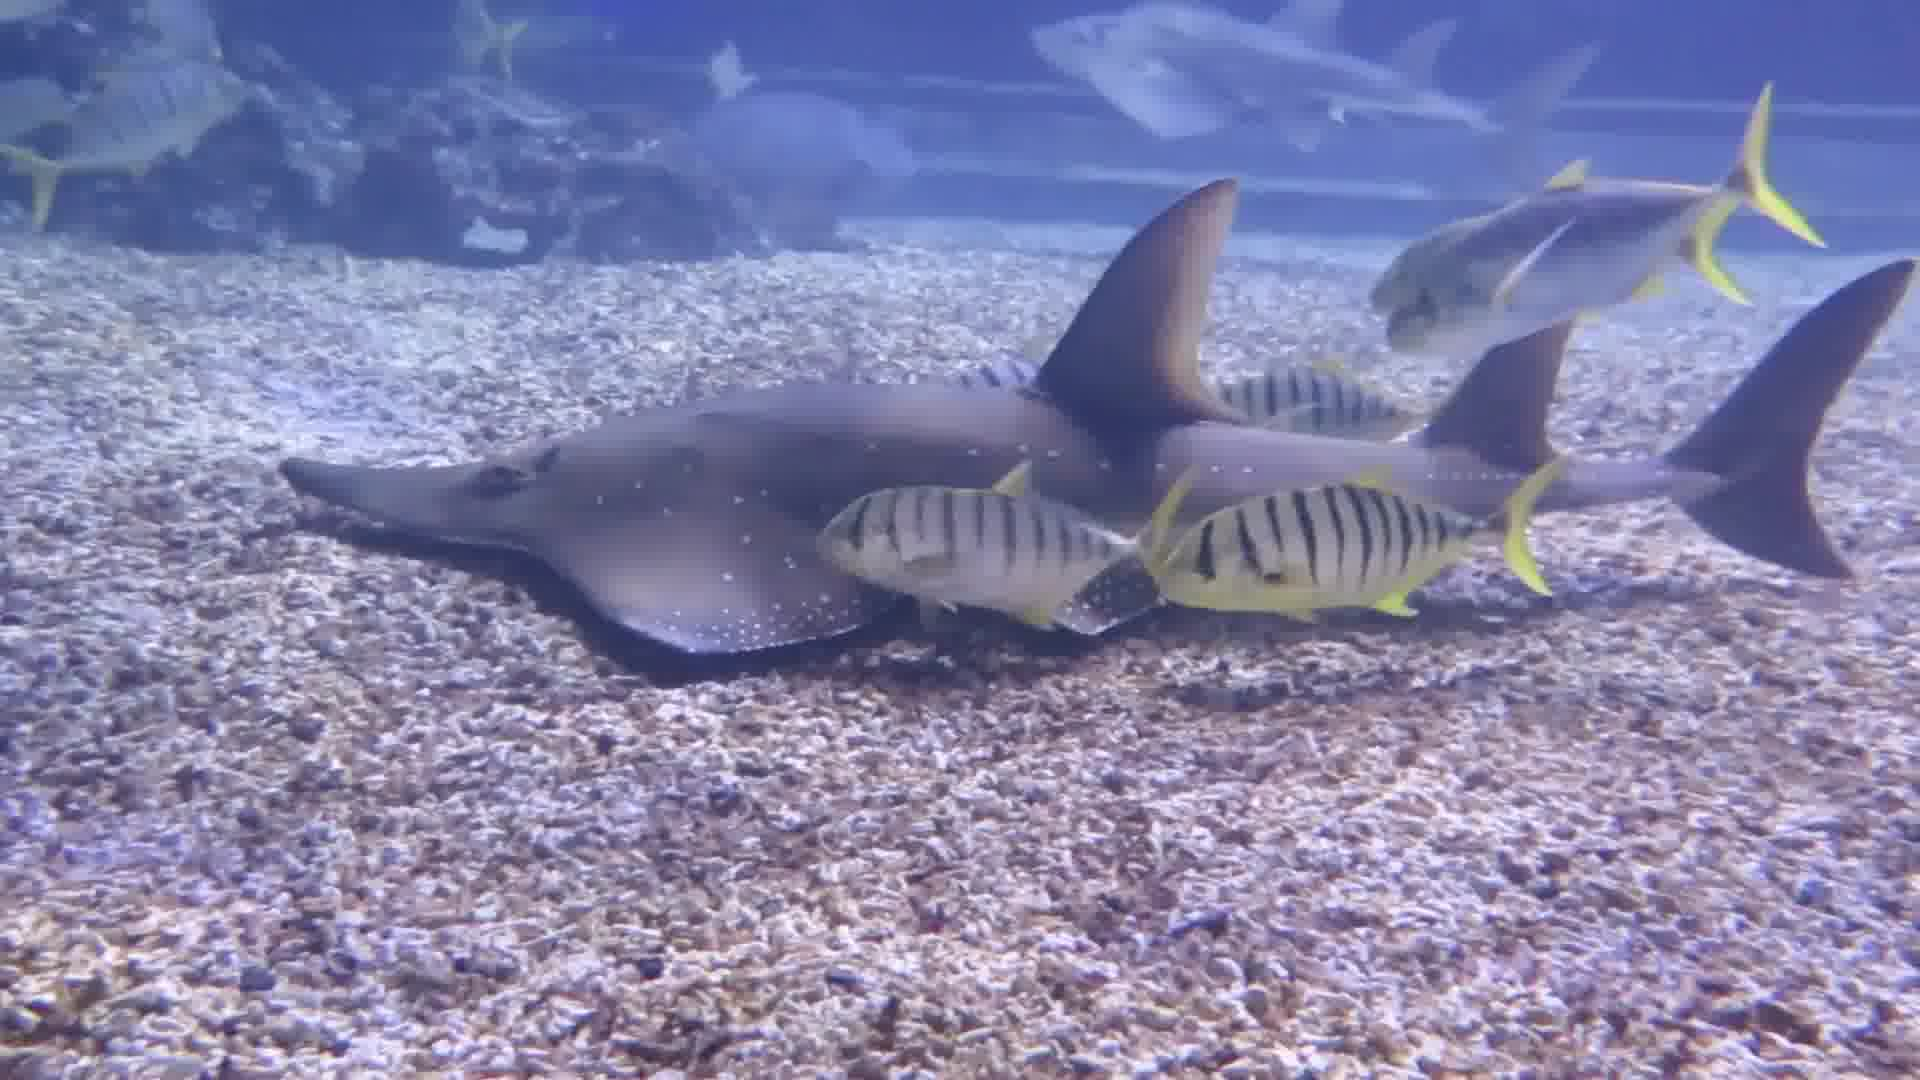Rhychobatus djiddensis: (252, 190, 1902, 669)
